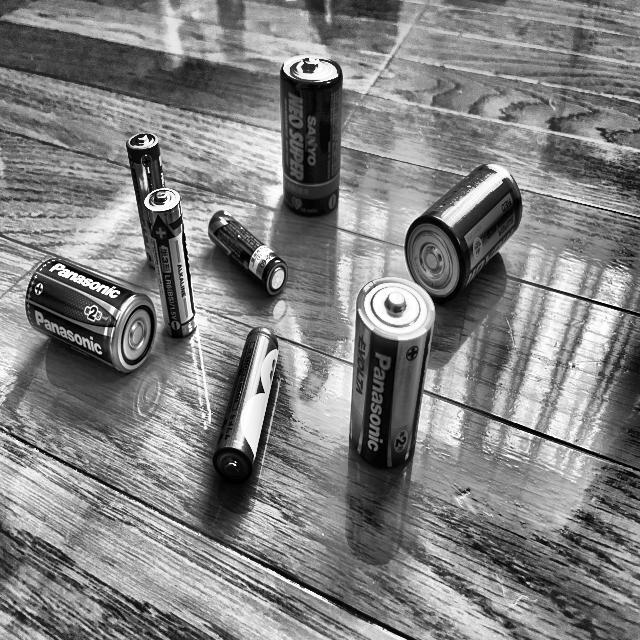drycell: (342, 273, 441, 481), (19, 250, 164, 378), (401, 154, 524, 304), (209, 320, 286, 489), (275, 50, 348, 222), (138, 187, 204, 340), (122, 126, 183, 275), (201, 208, 295, 302)
